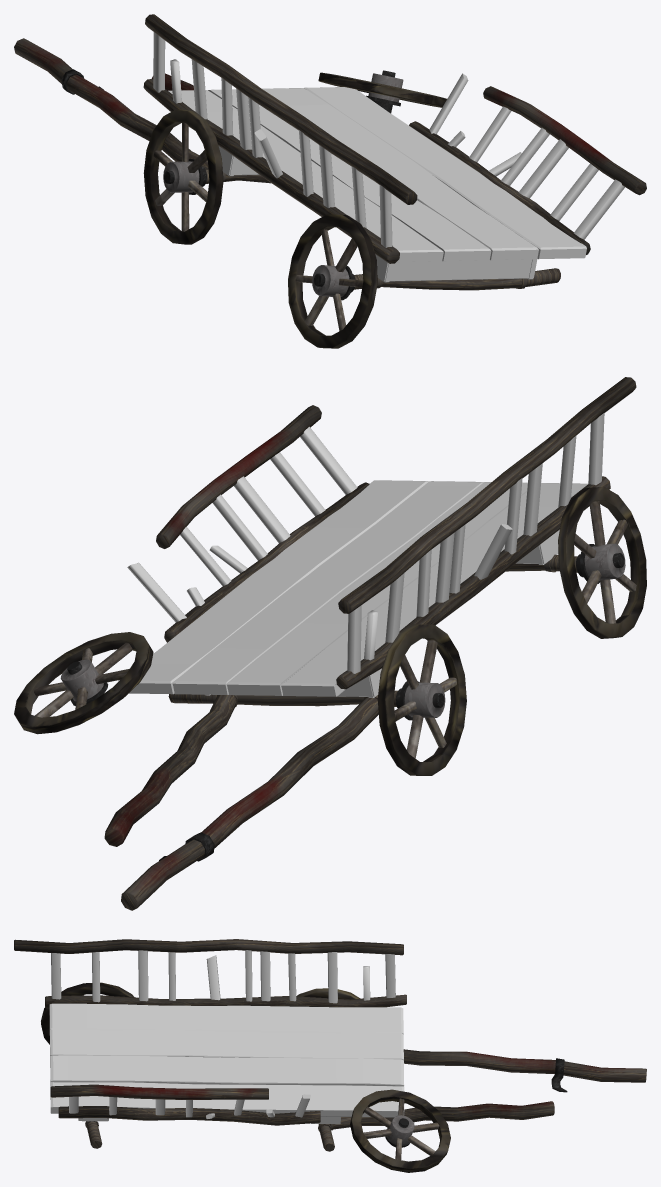
The model's file is CartDone.fbx.
3 renders of one model, top to bottom at view 1: azimuth 30°, elevation 25°; view 2: azimuth 150°, elevation 25°; view 3: azimuth 270°, elevation 25°, orthographic. The views are drawn at different scales.
Visible parts, largest first — view 1: Cube.017; view 2: Cube.017; view 3: Cube.017.
Part boxes in pixels (x1,y1,x2,y2): Cube.017: (14,14,646,348); Cube.017: (14,377,646,910); Cube.017: (14,939,646,1172).
Bounding box in the file's own units: 245 × 133 × 530.
